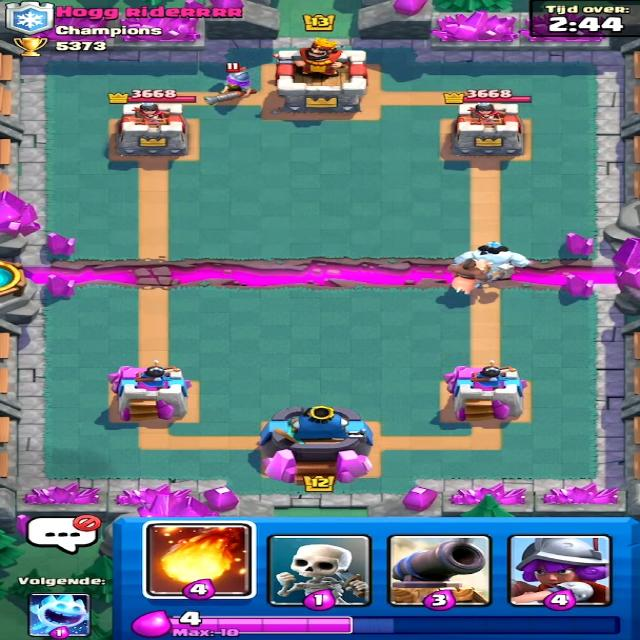Cannon_Card: (392, 535, 478, 609)
Enemy_Musketeer_Troop: (199, 64, 253, 104)
Fireball_Card: (131, 524, 265, 595)
Hog_Rider_Troop: (432, 259, 509, 298)
Ice_Golem_Troop: (452, 239, 529, 279)
Musketeer_Card: (507, 536, 620, 606)
Skeleton_Card: (268, 531, 367, 603)
